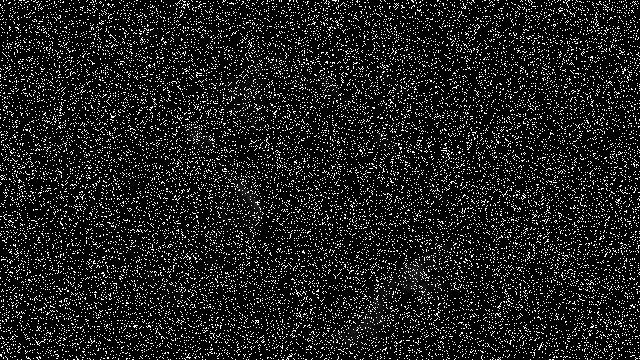pot: (263, 165, 375, 281)
